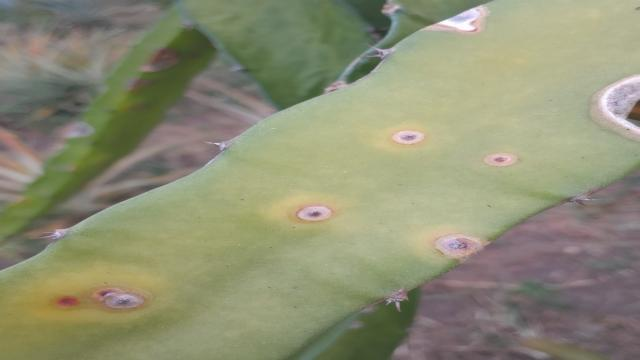stemcanker: (81, 282, 154, 319), (429, 234, 489, 260), (289, 199, 345, 224), (480, 148, 523, 171), (50, 289, 87, 314), (391, 126, 429, 147)
